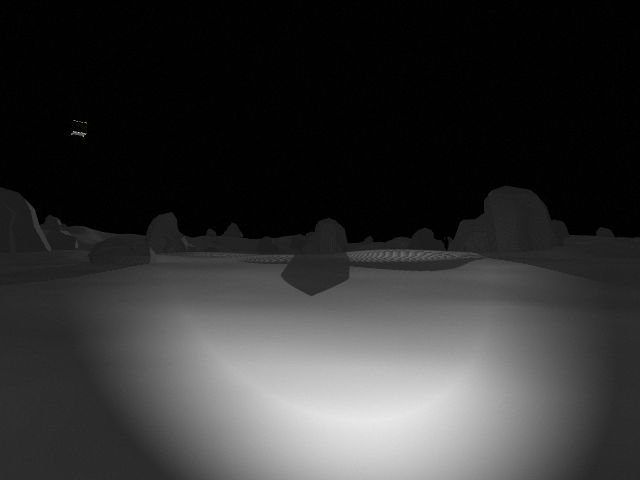cubesat: (68, 115, 94, 140)
